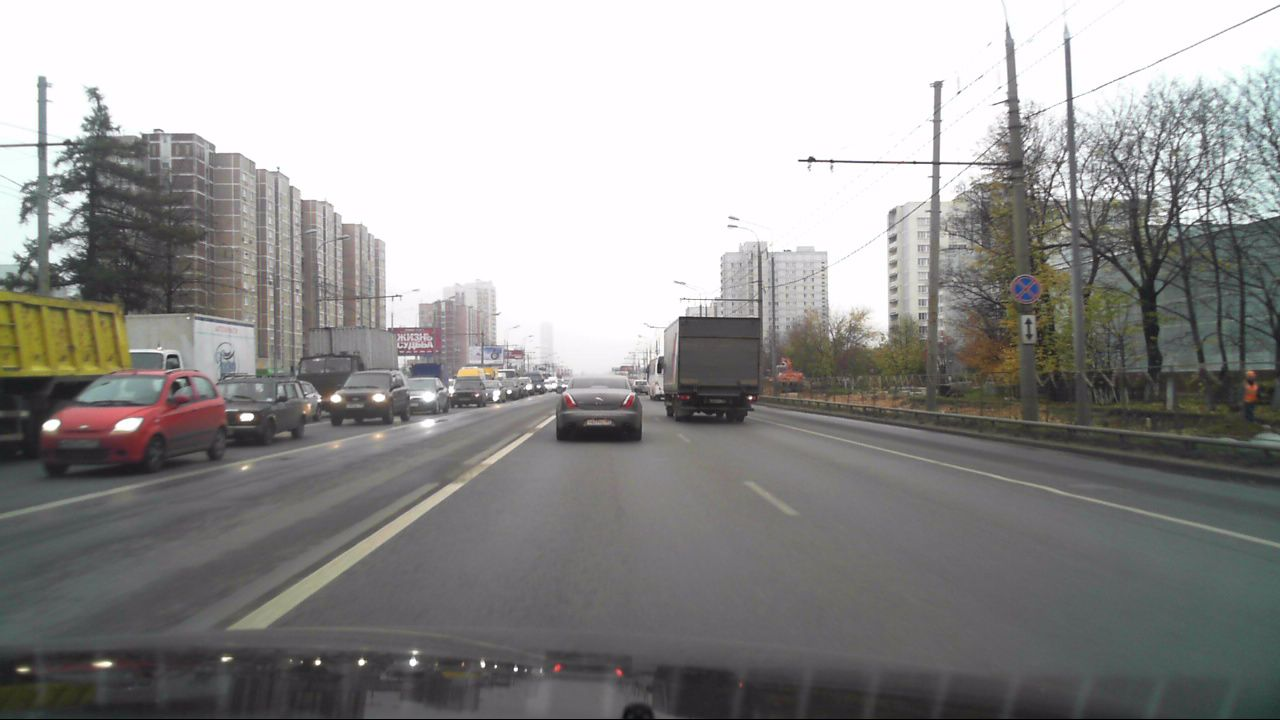No Parking: (1009, 274, 1041, 304)
